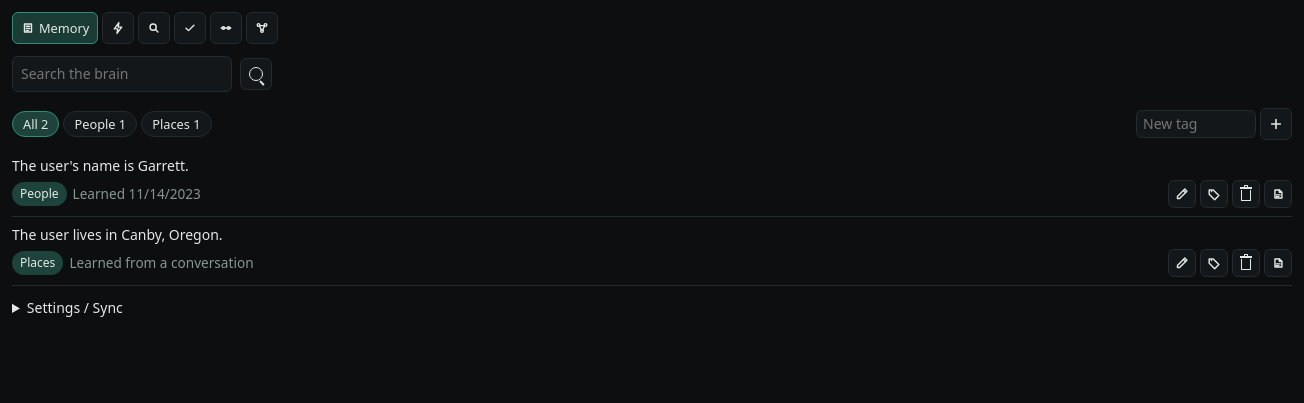
it: BrainMapView › reviews a low-confidence fact and restores a hidden one
Expected: the text "The user's name is Garrett." is shown, [12,156,189,175]
Click the tab named "Review": [190, 28] box [174,12,206,44]
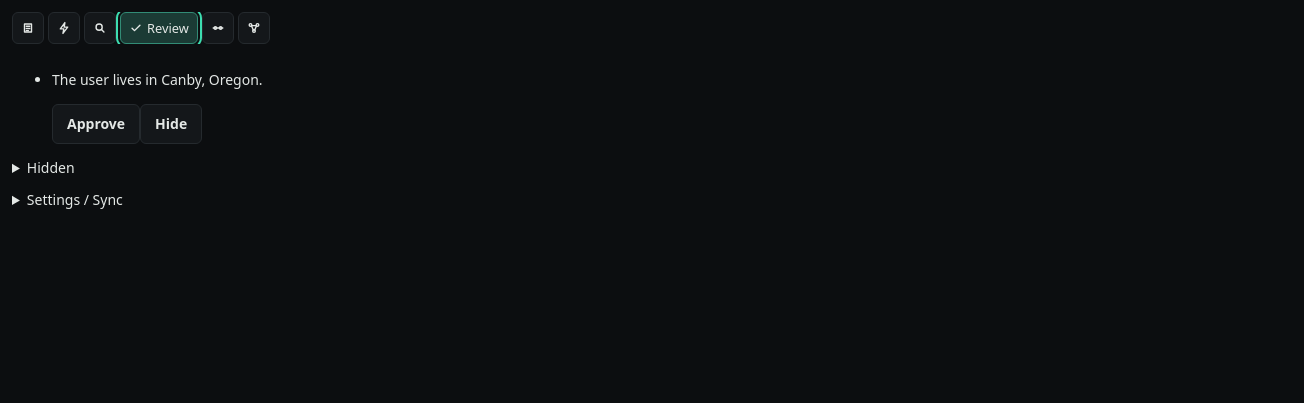
Expected: the text "The user lives in Canby, Oregon." is shown, [52,70,263,89]
Now the text "The user's name is Garrett." is gone
Click the button "Approve": [96, 124] box [52,104,140,144]
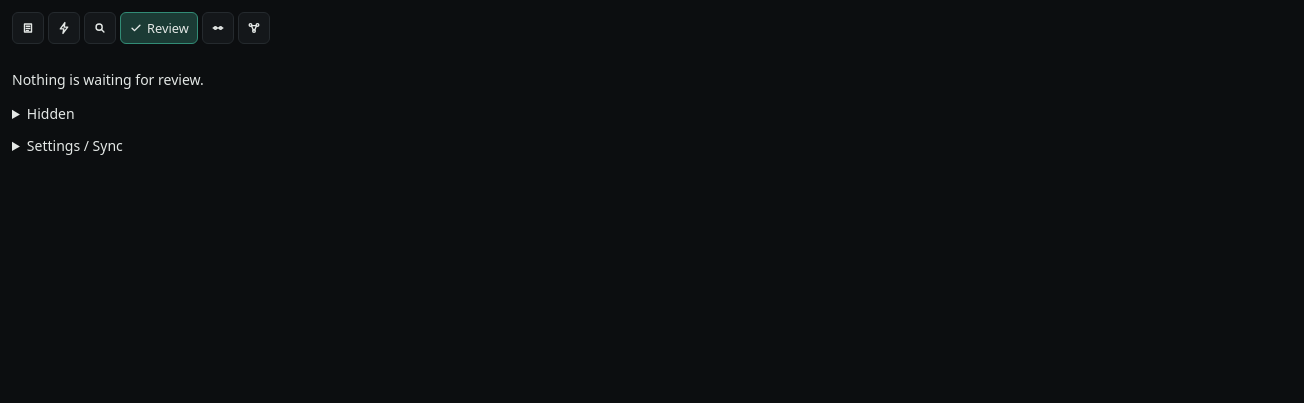
Now the text "Nothing is waiting for review." is shown, box [12,70,204,89]
Click the heading "Hidden": [51, 114] box [27,104,75,123]
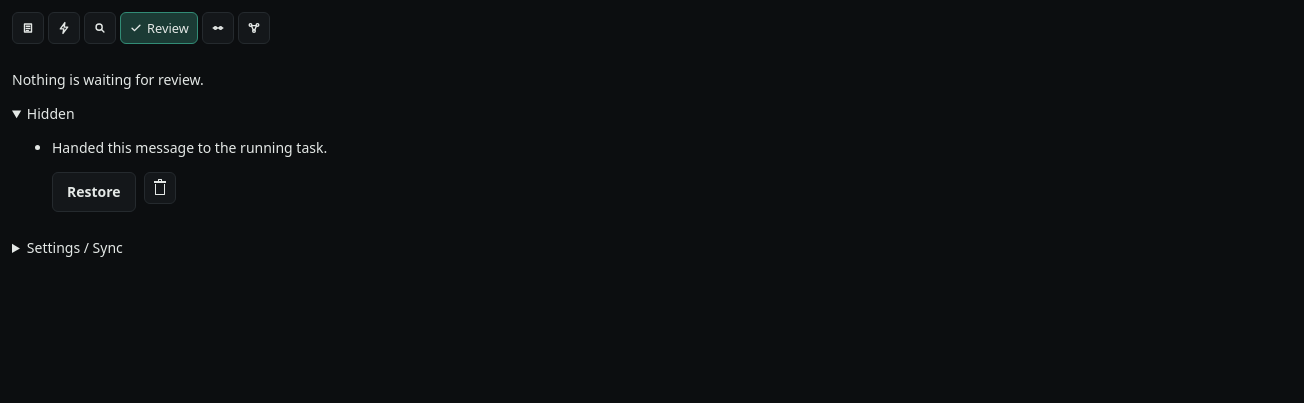
Click the button "Restore": [94, 192] box [52,172,136,212]
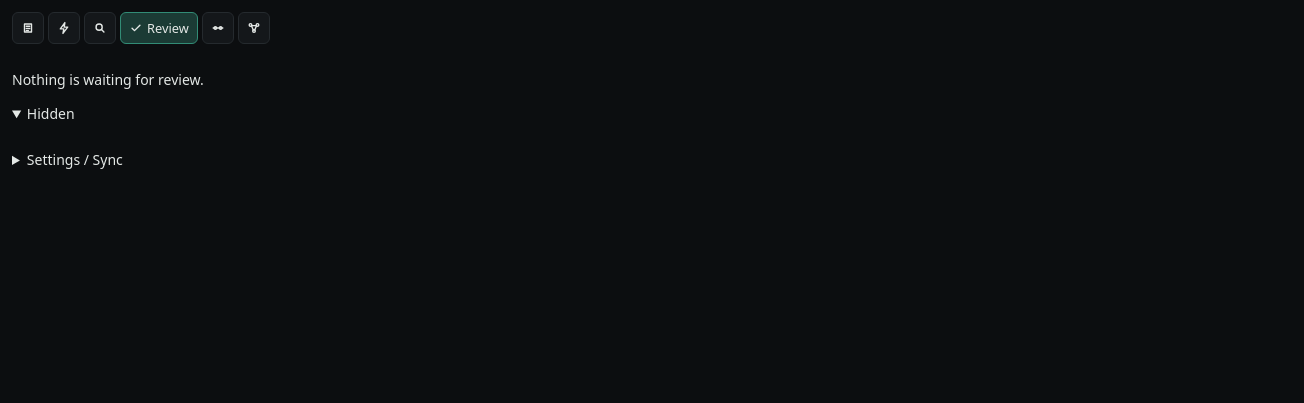
Click the tab named "Memory": [28, 28] box [12,12,44,44]
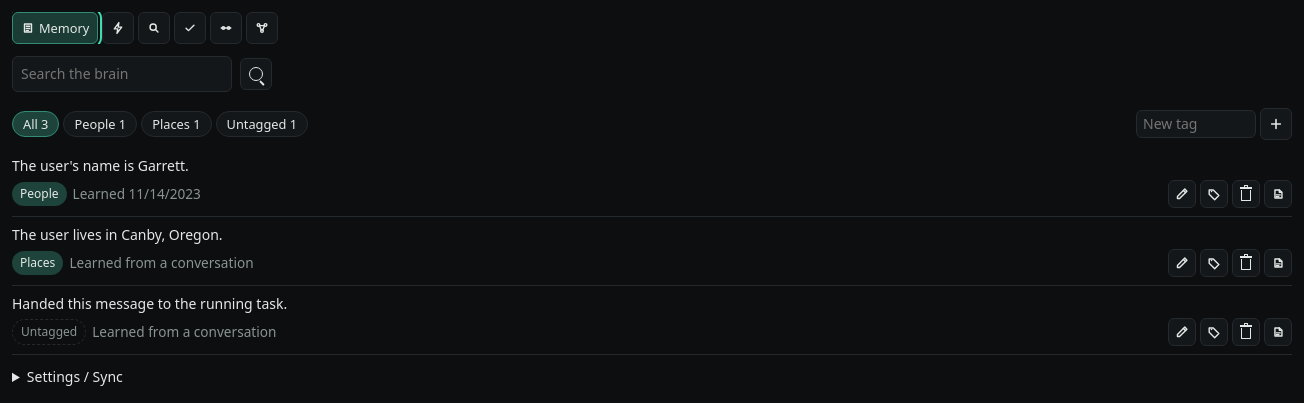
Now the text "Handed this message to the running task." is shown, box [12,294,287,313]
